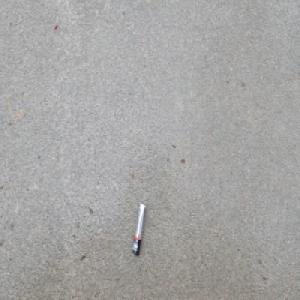Battery: (131, 201, 146, 258)
